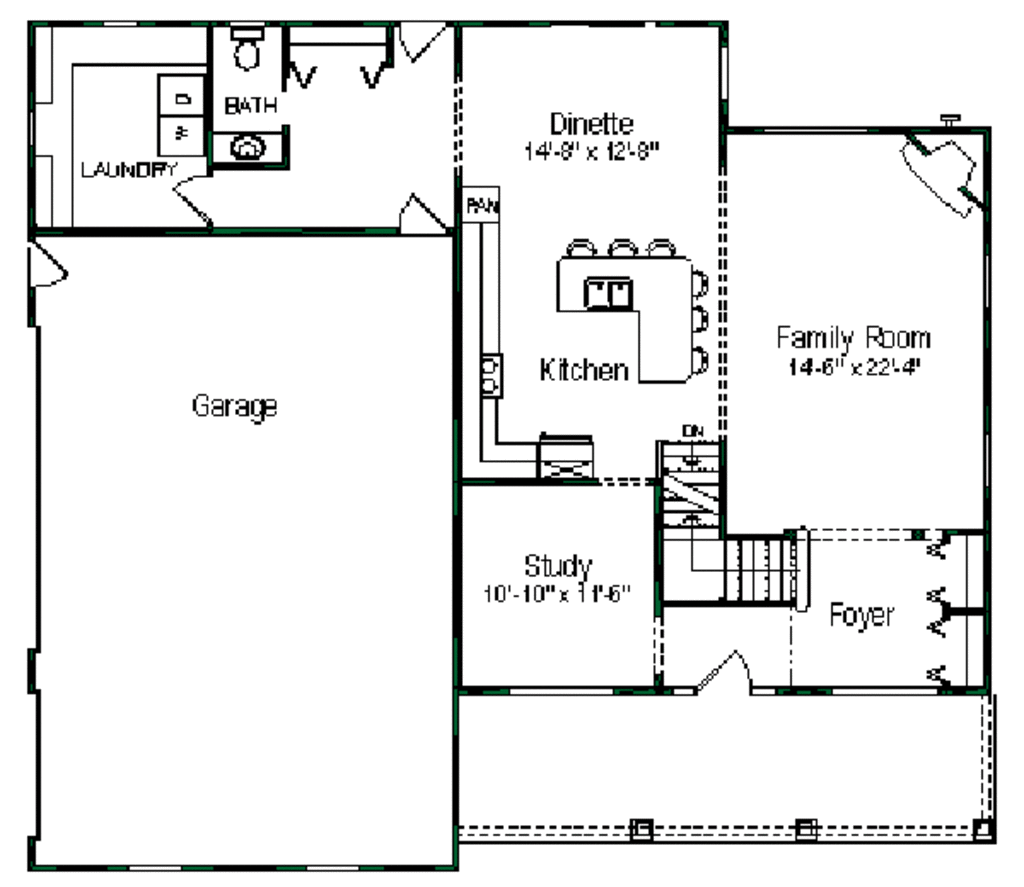door: (687, 647, 750, 696), (26, 233, 70, 295), (172, 169, 214, 230), (395, 192, 447, 238), (397, 22, 446, 66)
kitchen_bar: (550, 233, 714, 394)
large_sink: (226, 26, 271, 75)
small_sink: (201, 127, 288, 166)
stairs: (654, 422, 798, 606)
